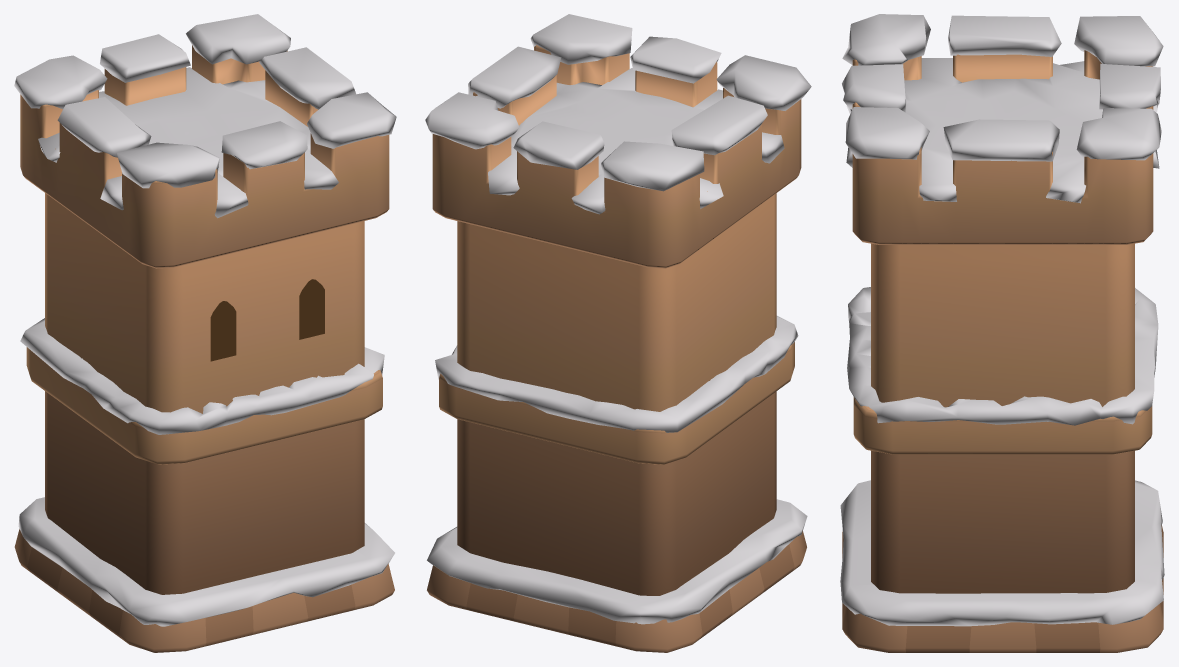
The model's file is CheckpointSnowy_1.fbx.
3 renders of one model, left to right at view 1: azimuth 30°, elevation 25°; view 2: azimuth 150°, elevation 25°; view 3: azimuth 270°, elevation 25°, orthographic. The views are drawn at different scales.
Visible parts, largest first — view 1: CheckpointSnowy_1; view 2: CheckpointSnowy_1; view 3: CheckpointSnowy_1.
Boxes of the visible parts, box(x1,y1,x2,y2) form: CheckpointSnowy_1: box(14, 14, 396, 652); CheckpointSnowy_1: box(425, 14, 811, 652); CheckpointSnowy_1: box(840, 14, 1164, 652).
Size of the model in its own units: 192 by 333 by 192.
